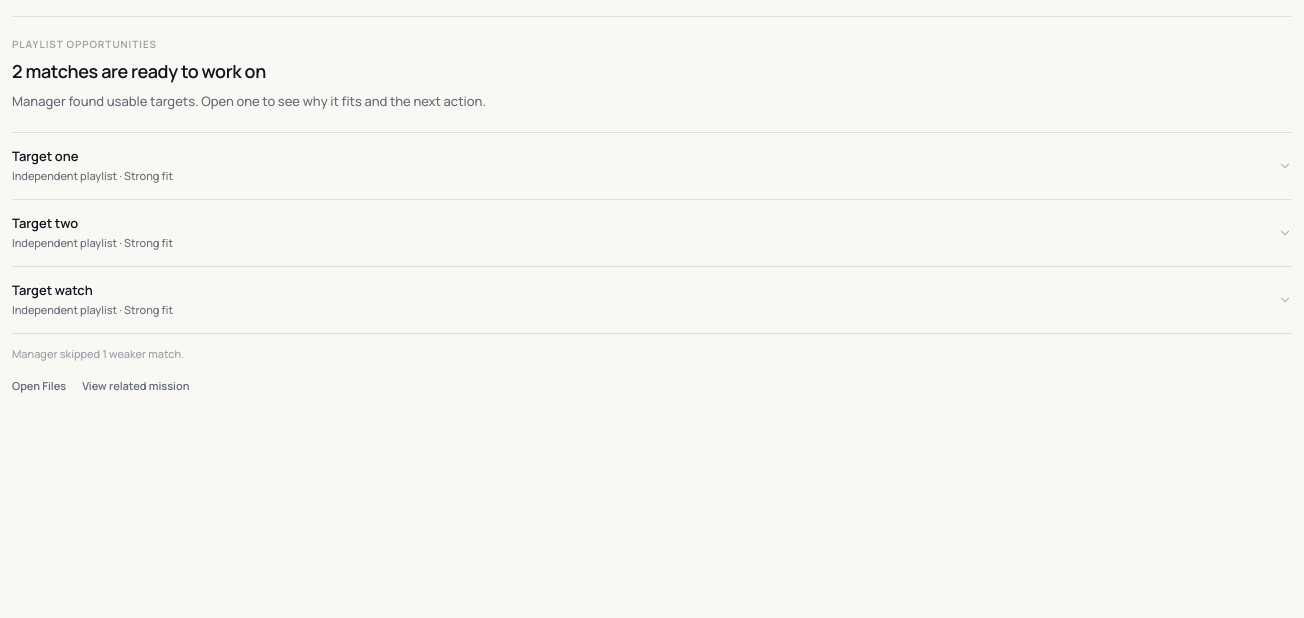
Test: record servicing opportunity presentation › keeps verified contact literal when a target is inspected
Click the button with aria-label "Open Target one": (45, 156) [12,133,1292,199]
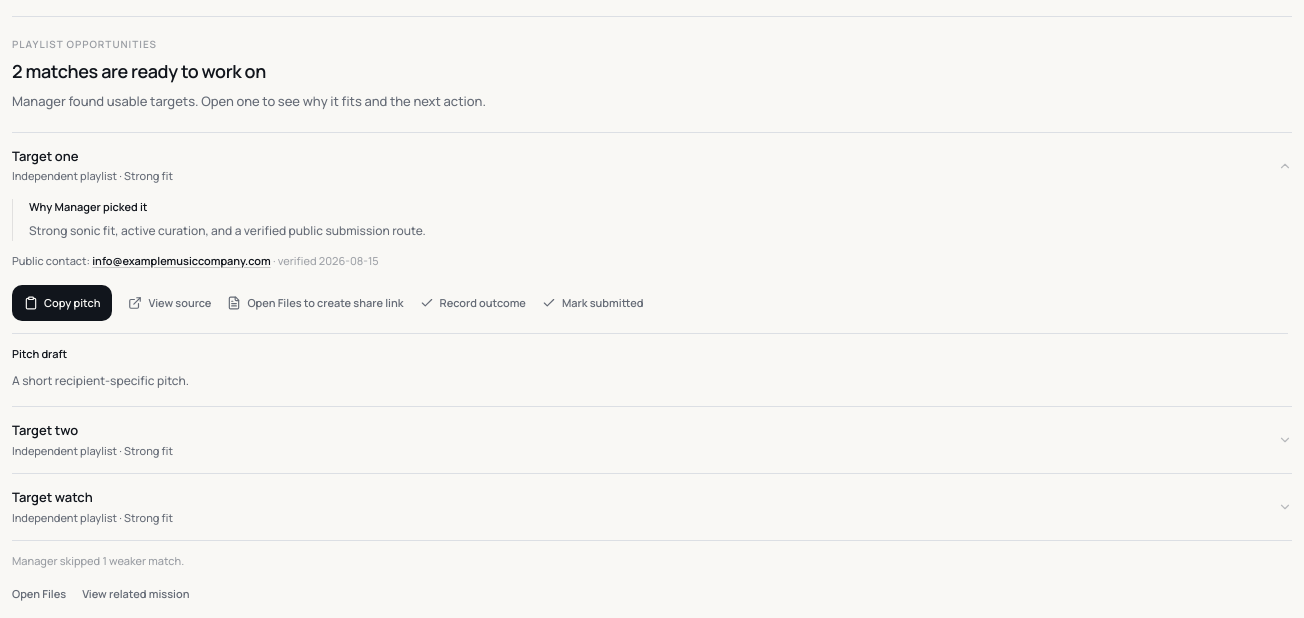
Now the text "· verified 2026-08-15" is shown, box [273,253,379,268]
